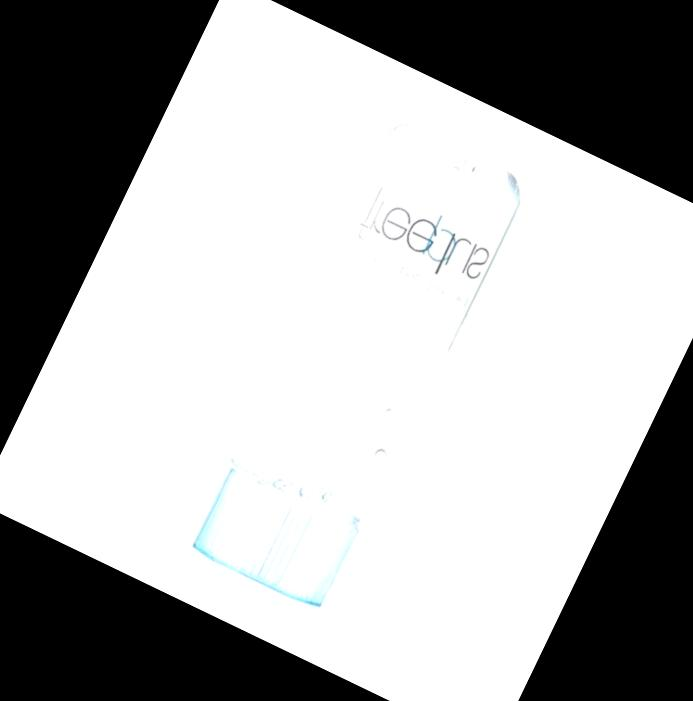cosmetic: (192, 113, 534, 610)
